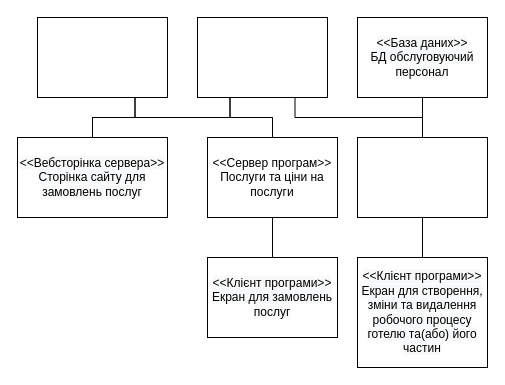
The diagram is 505 pixels wide and 385 high, and some of its shapes have lost their labels. The shapes that lost their labels are listed below. From the top down, each one's centre as x and y in pixels, then its label:
(102,57): <<База даних>> БД Послуги
(262,57): <<База даних>> БД Дохід
(422,177): <<Сервер програм>> Зарплати та розпорядок робочого процесу
